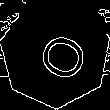O_NW: (24, 22, 87, 83)
